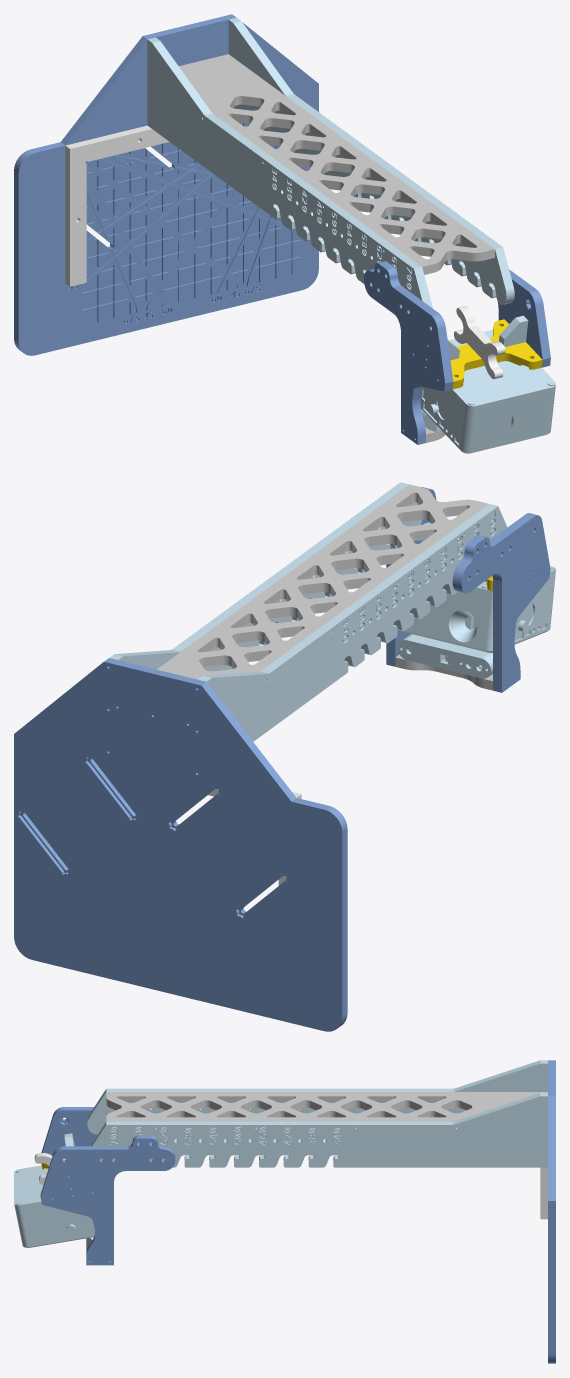
3 views of the same model, one above another, from view 1: azimuth 30°, elevation 25°; view 2: azimuth 150°, elevation 25°; view 3: azimuth 270°, elevation 25° (orthographic). The views are drawn at different scales.
Visible parts, largest first — view 1: Part 4, Part 2 (×2), Part 3, Part 1 (×2), Part 5 (×2), Part 7, Part 8, Part 6; view 2: Part 4 (×2), Part 3, Part 2, Part 1 (×3), Part 5; view 3: Part 1 (×2), Part 3, Part 7, Part 2, Part 4, Part 5 (×2).
Part boxes in pixels (x1,y1,x2,y2): Part 4: (14,14,318,355); Part 2 (×2): (147,37,542,389); Part 3: (179,54,494,274); Part 1 (×2): (228,17,555,453); Part 5 (×2): (65,125,453,444); Part 7: (498,269,550,367); Part 8: (454,306,505,379); Part 6: (499,315,528,346); Part 4 (×2): (14,654,492,1031); Part 3: (157,484,488,679); Part 2: (198,504,507,741); Part 1 (×3): (109,482,555,678); Part 5: (452,513,550,692); Part 1 (×2): (14,1093,547,1247); Part 3: (106,1092,547,1121); Part 7: (40,1135,175,1265); Part 2: (87,1060,547,1134); Part 4: (548,1060,555,1363); Part 5 (×2): (41,1107,547,1219).
Bounding box in the file's own units: 0.4635 × 0.4258 × 0.8741.
